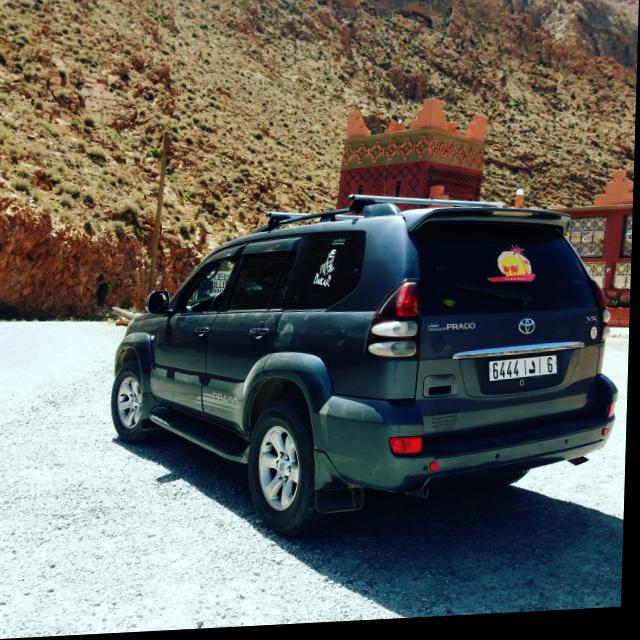License-Plate: (492, 361, 560, 386)
